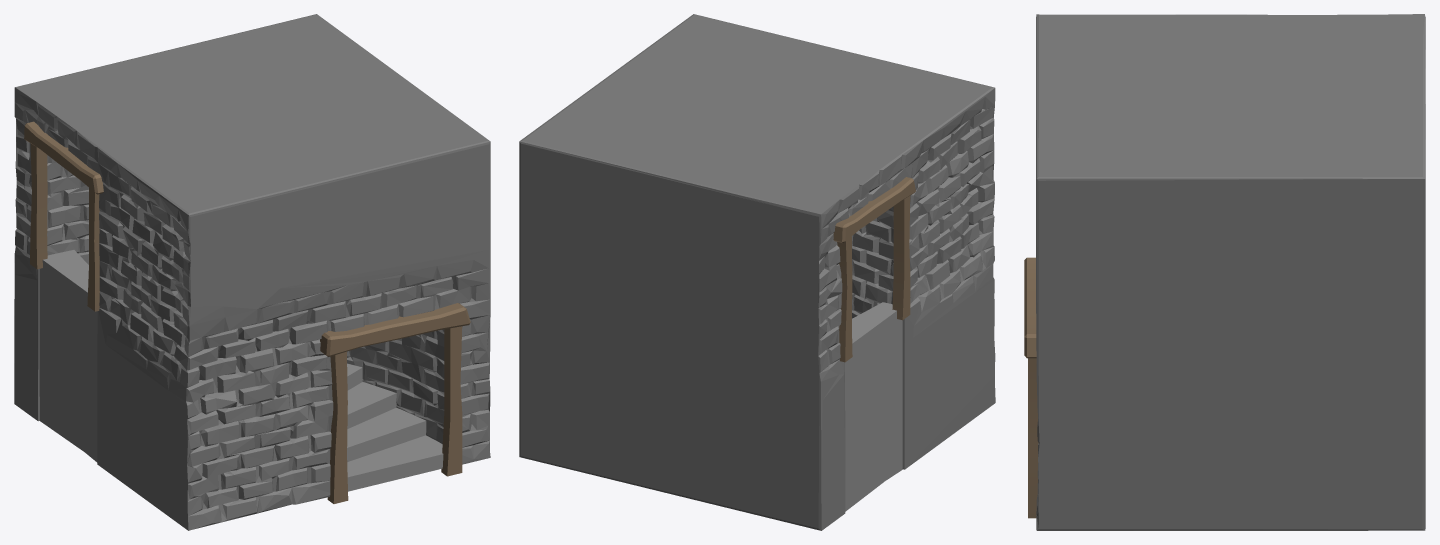
File: modular_stairs_a.FBX
3 views of the same model, side by side, from view 1: azimuth 30°, elevation 25°; view 2: azimuth 150°, elevation 25°; view 3: azimuth 270°, elevation 25° (orthographic). The views are drawn at different scales.
Visible parts, largest first — view 1: modular_stairs_a; view 2: modular_stairs_a; view 3: modular_stairs_a.
Boxes of the visible parts, box(x1,y1,x2,y2) form: modular_stairs_a: box(14, 14, 490, 530); modular_stairs_a: box(519, 14, 995, 530); modular_stairs_a: box(1024, 14, 1425, 530).
Size of the model in its own units: 6.14 by 6.08 by 6.19.
